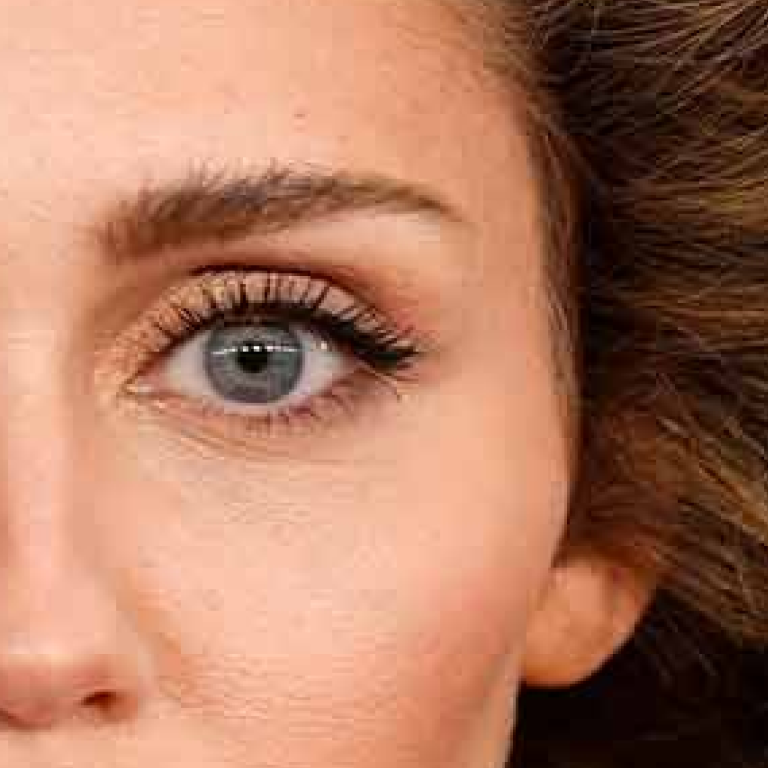iris: (204, 317, 302, 402)
pupil: (237, 341, 268, 373)
sclera: (141, 322, 362, 411)
